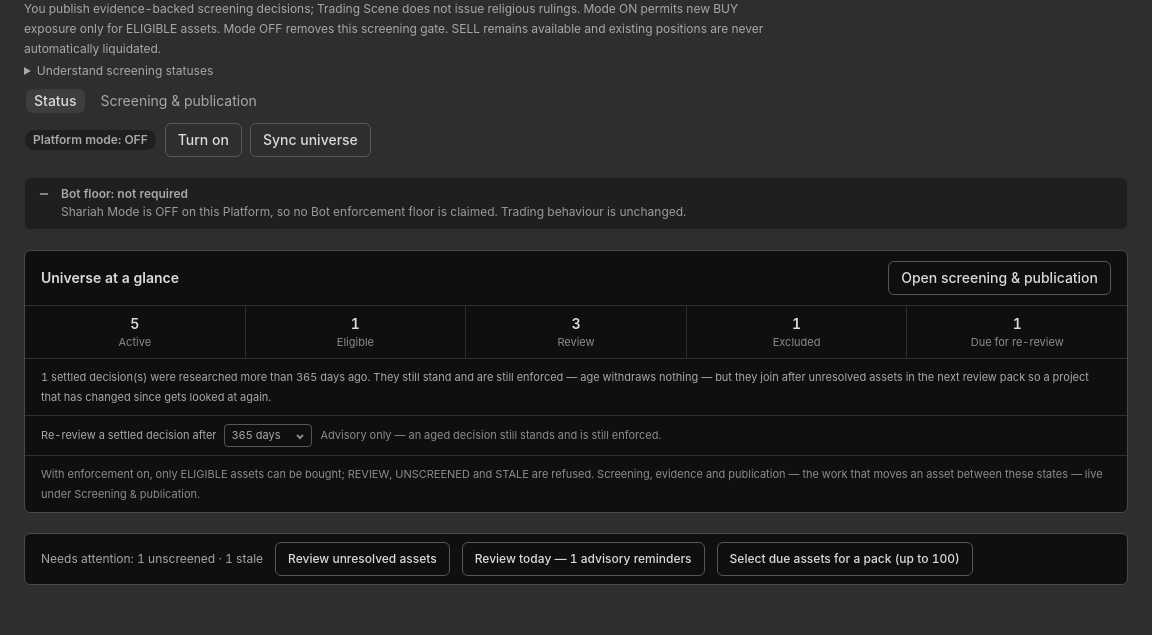
Test: existing publications expose exact safe citations and research freshness
Click the tab "Screening & publication".
click(179, 101)  # box [91,87,267,115]
(page scrolled)
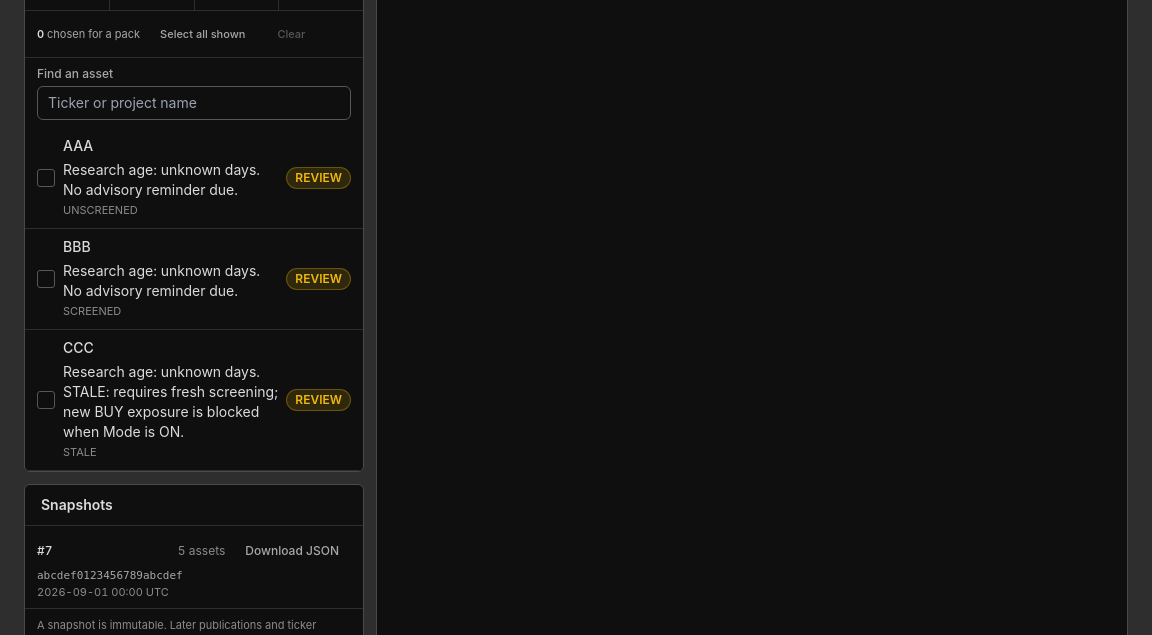
Click the button "BBB".
click(213, 279)  # box [63,229,363,329]
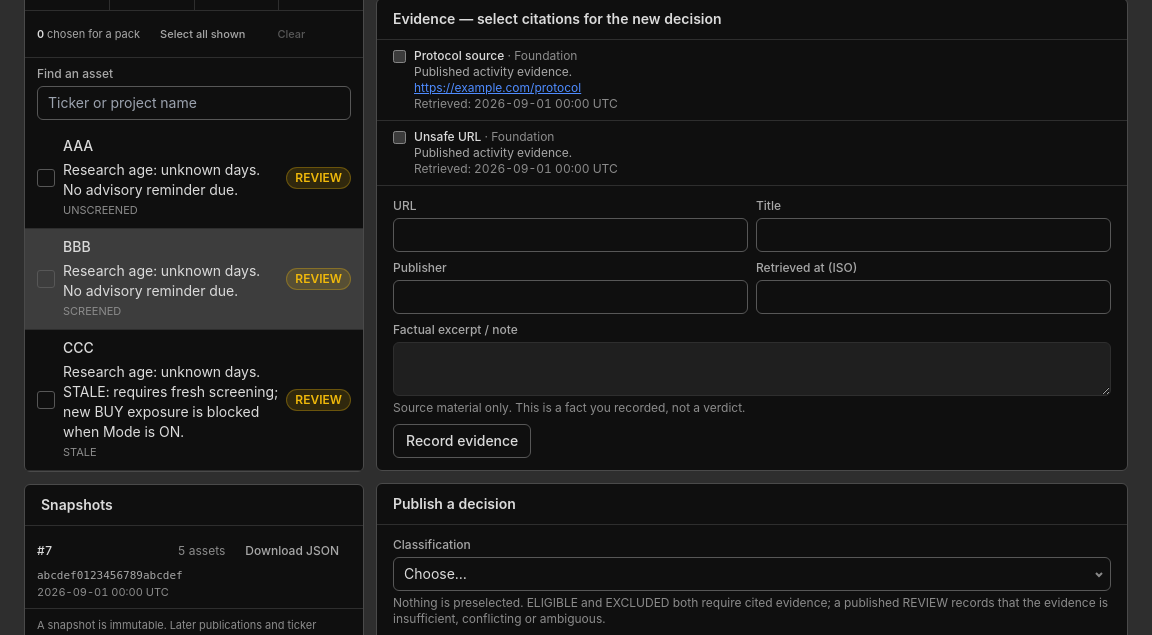
Result: the link "https://example.com/protocol" is shown at [414,80,581,95]
